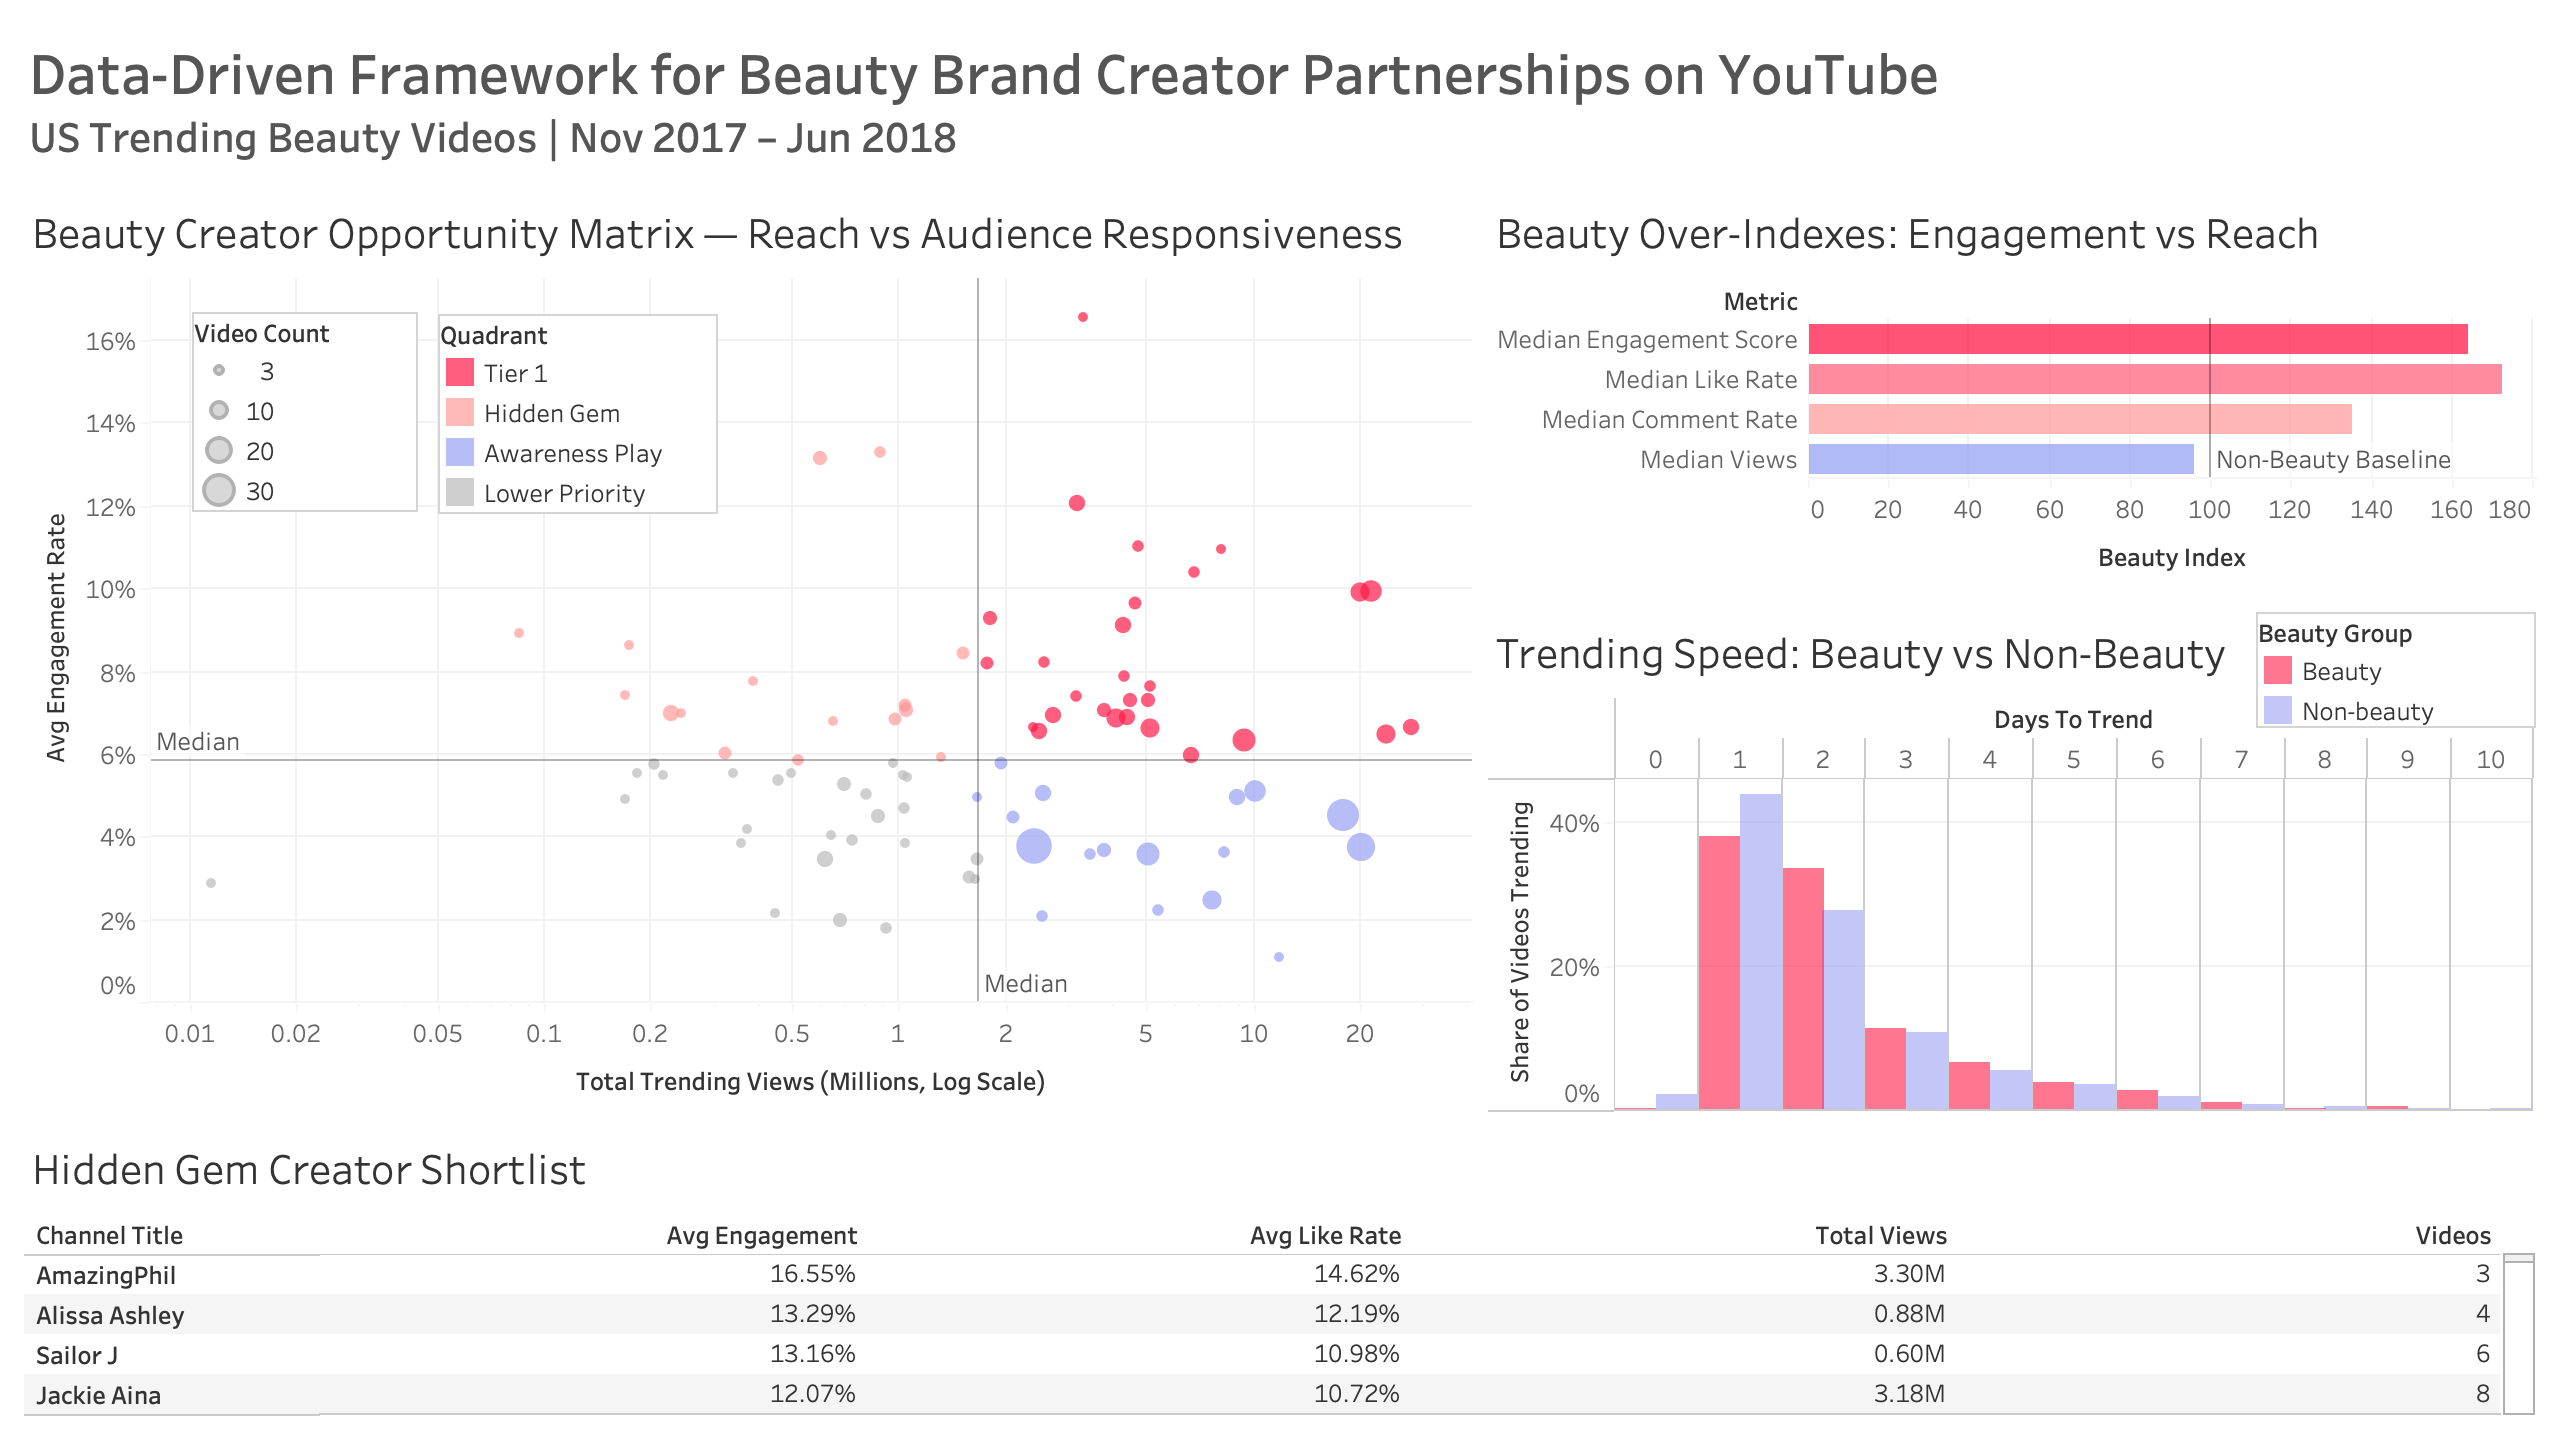

This screenshot's page, from the dashboard's own definition file:
{"tool":"tableau","page":{"name":"Dashboard","canvas":[1280,720],"ordinal":0},"visuals":[{"type":"text","box":[8,8,652,114.8]},{"type":"worksheet","title":"KPI Hidden Gem","mark":"Text","box":[660,8,178,114.8]},{"type":"worksheet","title":"KPI Engagement","mark":"Automatic","box":[838,8,207,114.8]},{"type":"worksheet","title":"KPI Trend within 2 Days","mark":"Automatic","box":[1045,8,227,114.8]},{"type":"worksheet","title":"Creator Opportunity Matrix","mark":"Circle","rows":["avg_engagement"],"cols":["total_views_M"],"box":[8,122.8,731,460.2]},{"type":"worksheet","title":"Beauty Over-Indexes: Engagement vs Reach","mark":"Bar","rows":["metric"],"cols":["beauty_index"],"box":[739,122.8,532.9,211]},{"type":"legend","title":"Creator Opportunity Matrix","param":"[federated.0ww84bz1hwcxq31fvrym108t4tef].[sum:video_count:qk]","box":[94,188,113,100]},{"type":"legend","title":"Creator Opportunity Matrix","param":"[federated.0ww84bz1hwcxq31fvrym108t4tef].[none:quadrant:nk]","box":[215,189,140,100]},{"type":"worksheet","title":"48-Hour Viral Window","mark":"Bar","rows":["pct_of_group"],"cols":["days_to_trend","beauty_group"],"box":[739,333.8,532.9,249.2]},{"type":"legend","title":"48-Hour Viral Window","param":"[federated.0g7hvtq1uq55450zjq5mp05nitzj].[none:beauty_group:nk]","box":[1119,428,140,58]},{"type":"worksheet","title":"Hidden Gem Creator Shortlist","mark":"Text","rows":["channel_title"],"box":[8,583,1264,129]}]}

Visuals, with their boxes in screenshot pixels (x1, y1, x2, y2), scaled from the page's 1280x720 canvas onto the 2560x1440 screenshot:
text: l=16, t=16, r=1320, b=246
"KPI Hidden Gem" worksheet (Text marks): l=1320, t=16, r=1676, b=246
"KPI Engagement" worksheet: l=1676, t=16, r=2090, b=246
"KPI Trend within 2 Days" worksheet: l=2090, t=16, r=2544, b=246
"Creator Opportunity Matrix" worksheet (Circle marks): l=16, t=246, r=1478, b=1166
"Beauty Over-Indexes: Engagement vs Reach" worksheet (Bar marks): l=1478, t=246, r=2544, b=668
"Creator Opportunity Matrix" legend: l=188, t=376, r=414, b=576
"Creator Opportunity Matrix" legend: l=430, t=378, r=710, b=578
"48-Hour Viral Window" worksheet (Bar marks): l=1478, t=668, r=2544, b=1166
"48-Hour Viral Window" legend: l=2238, t=856, r=2518, b=972
"Hidden Gem Creator Shortlist" worksheet (Text marks): l=16, t=1166, r=2544, b=1424
